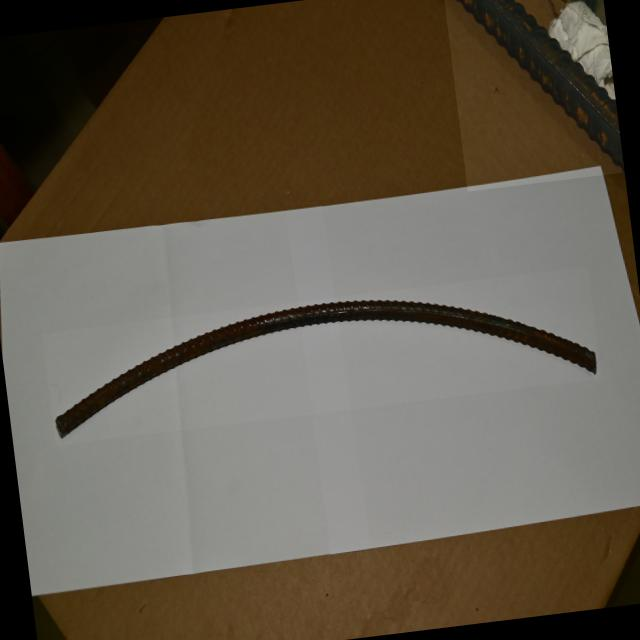ribbed bar: (41, 266, 602, 445), (442, 0, 624, 190)
